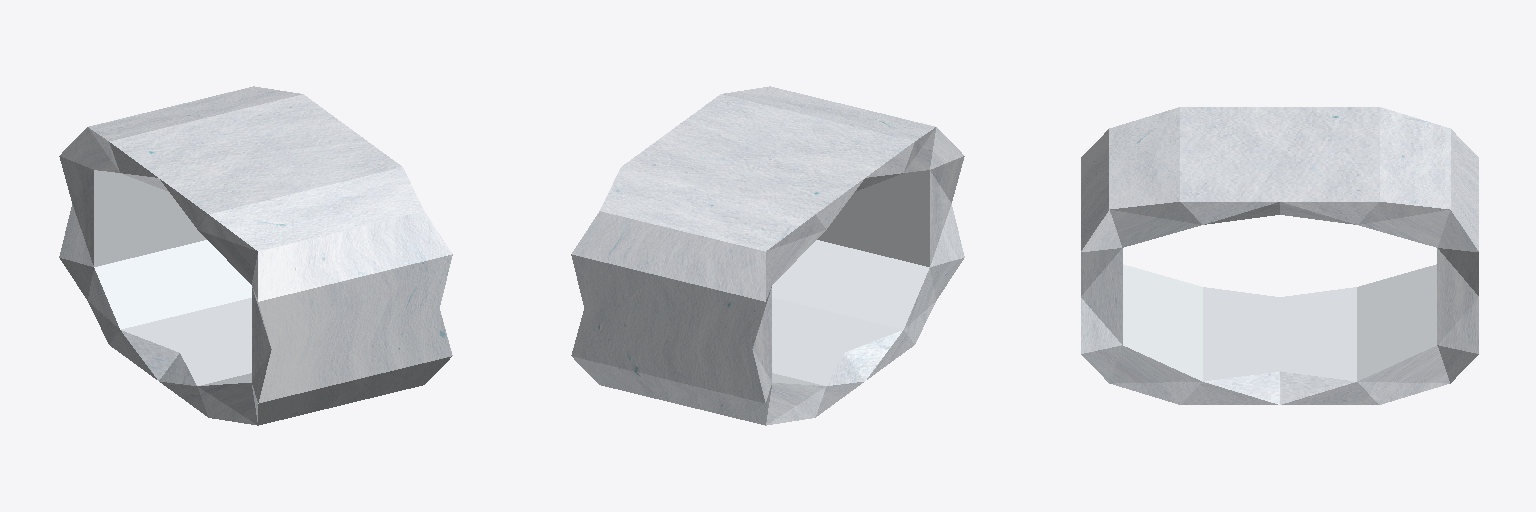
The picture shows the model from 3 angles: view 1: azimuth 30°, elevation 25°; view 2: azimuth 150°, elevation 25°; view 3: azimuth 270°, elevation 25°; orthographic projection.
Parts seen in each view (by area): view 1: Cube; view 2: Cube; view 3: Cube.
Boxes of the visible parts, x1,y1,x2,y2 form: Cube: [59, 86, 452, 425]; Cube: [571, 86, 964, 425]; Cube: [1081, 107, 1478, 404].
Size of the model in its own units: 2 by 2 by 3.55.
1 materials, 1 textured.